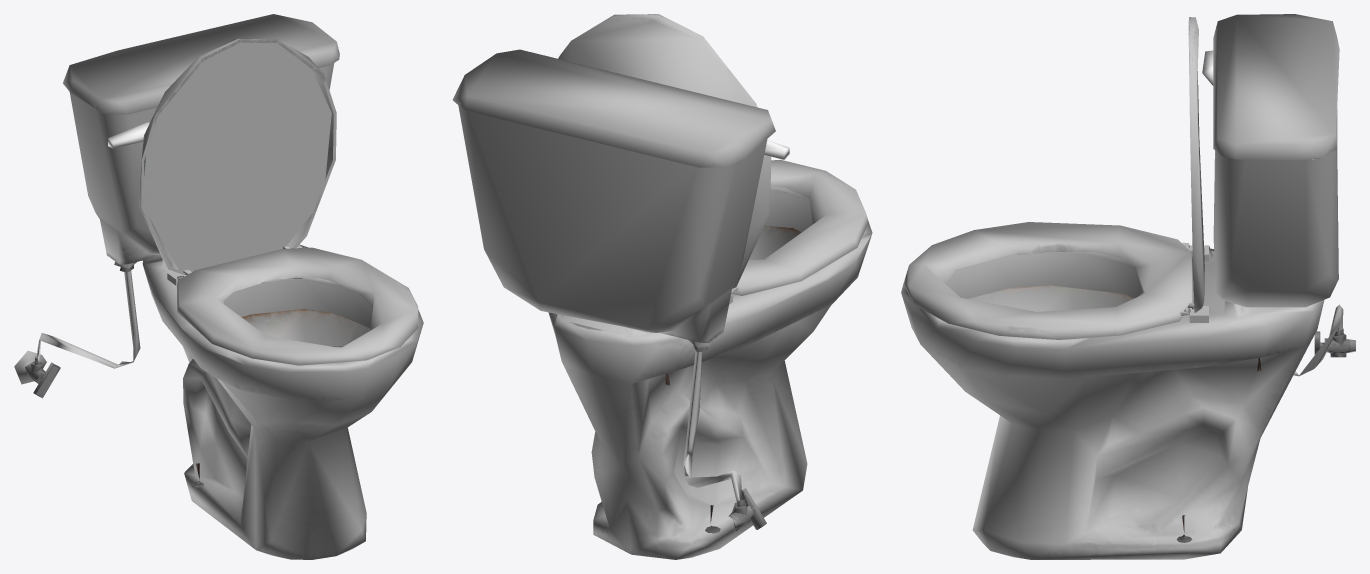
File: toilet.glb
3 views of the same model, side by side, from view 1: azimuth 30°, elevation 25°; view 2: azimuth 150°, elevation 25°; view 3: azimuth 270°, elevation 25° (orthographic). The views are drawn at different scales.
Parts seen in each view (by area): view 1: Toilet_Toilet_0; view 2: Toilet_Toilet_0; view 3: Toilet_Toilet_0.
Part boxes in pixels (bbox=[...]): Toilet_Toilet_0: bbox=[14, 14, 423, 559]; Toilet_Toilet_0: bbox=[452, 14, 872, 559]; Toilet_Toilet_0: bbox=[901, 14, 1355, 559].
Bounding box in the file's own units: 0.4996 × 0.78 × 0.6368.
Materials: 1 (1 with a texture image).
